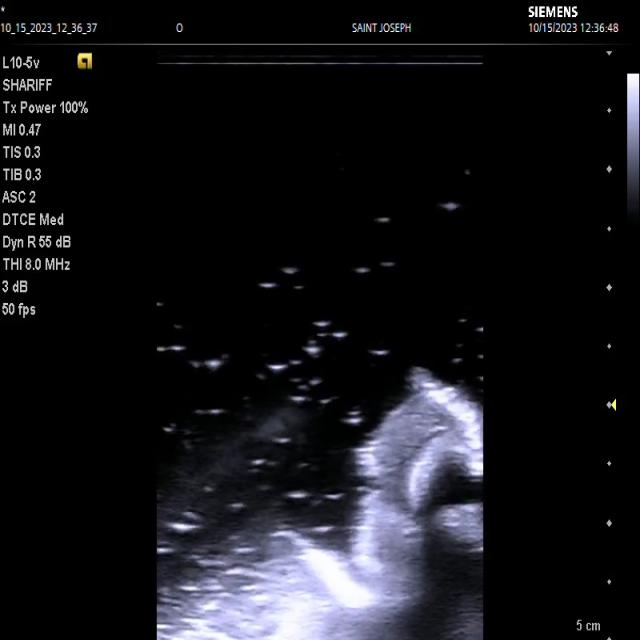tissue: (166, 368, 484, 640)
